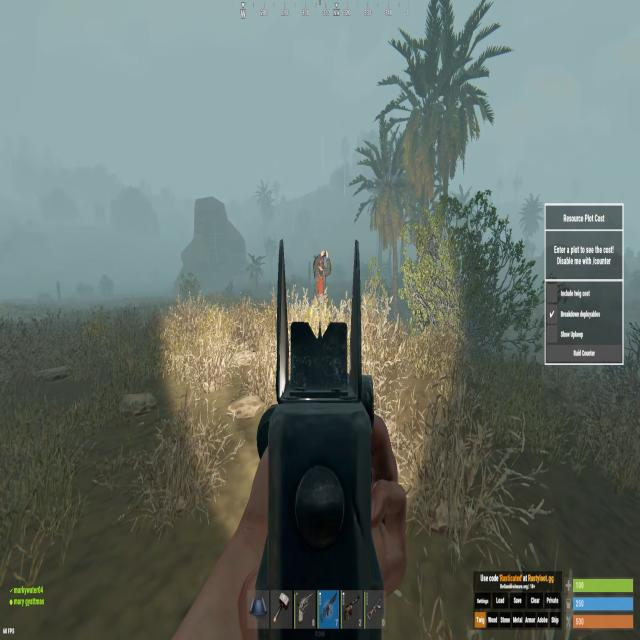Player: (312, 248, 332, 319)
